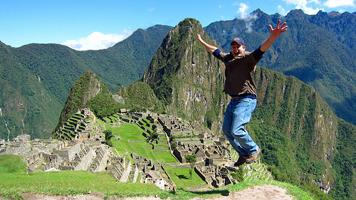person: (196, 21, 290, 168)
